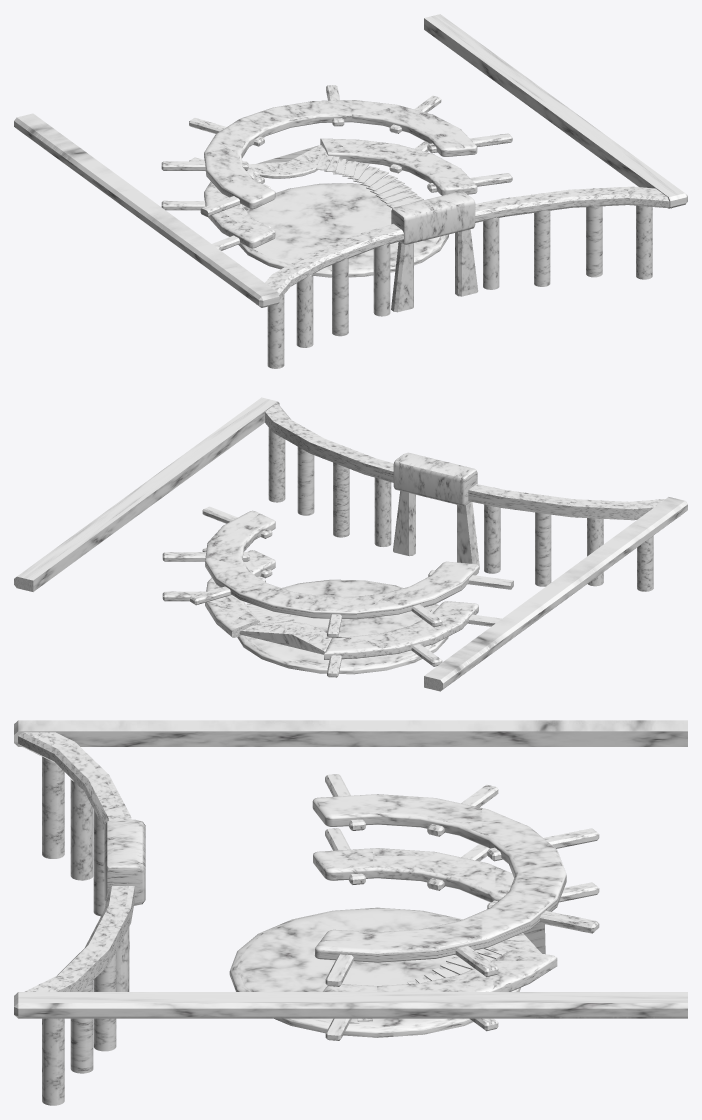
Rendered from MarmolBlanco.obj.
3 views of the same model, one above another, from view 1: azimuth 30°, elevation 25°; view 2: azimuth 150°, elevation 25°; view 3: azimuth 270°, elevation 25° (orthographic). The views are drawn at different scales.
Parts seen in each view (by area): view 1: polySurface2 Marmol; view 2: polySurface2 Marmol; view 3: polySurface2 Marmol.
Part boxes in pixels (left/top/right/bottom): polySurface2 Marmol: left=14, top=14, right=687, bottom=368; polySurface2 Marmol: left=14, top=397, right=687, bottom=691; polySurface2 Marmol: left=14, top=720, right=687, bottom=1105.
Size of the model in its own units: 29720 by 6616 by 29559.
Materials: 3 (2 with a texture image).
